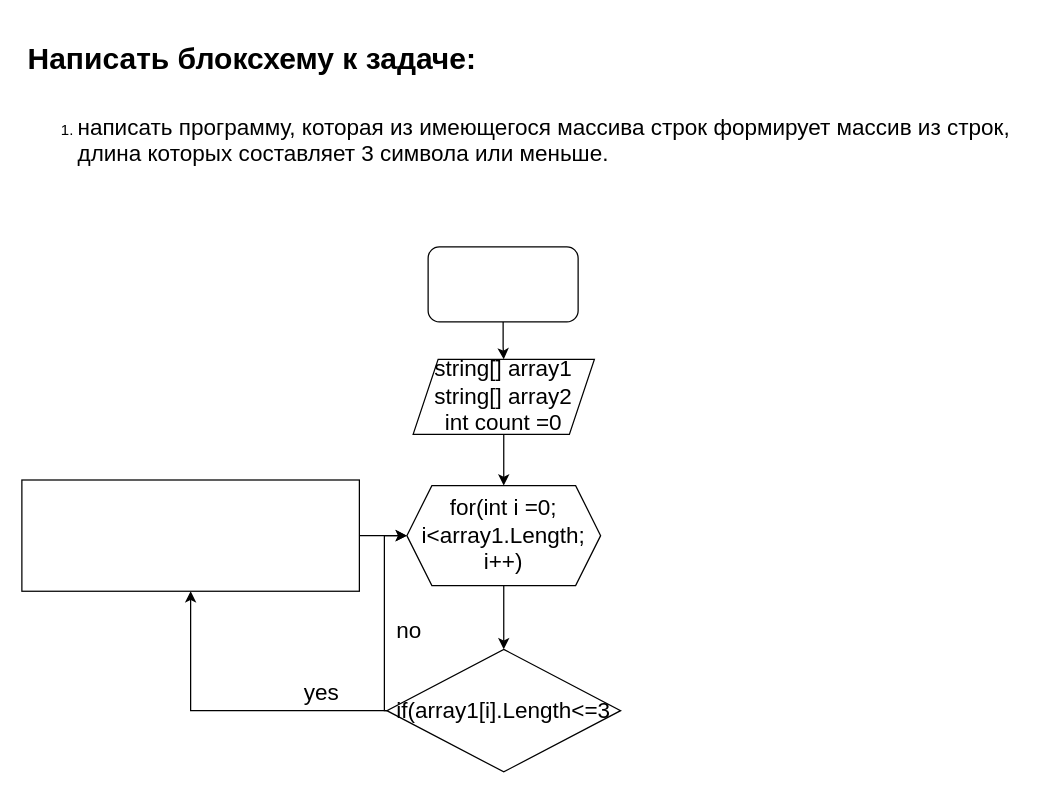
Some shapes in this 1044 by 794 pixel diagram are drawn without their labels. The shapes that lost their labels are listed below. From the top down, each one's centre as x and y in pixels, then its label:
At point (502, 284): "SecondArray".
At point (190, 535): "array2[count] = array1[i] count++;".
